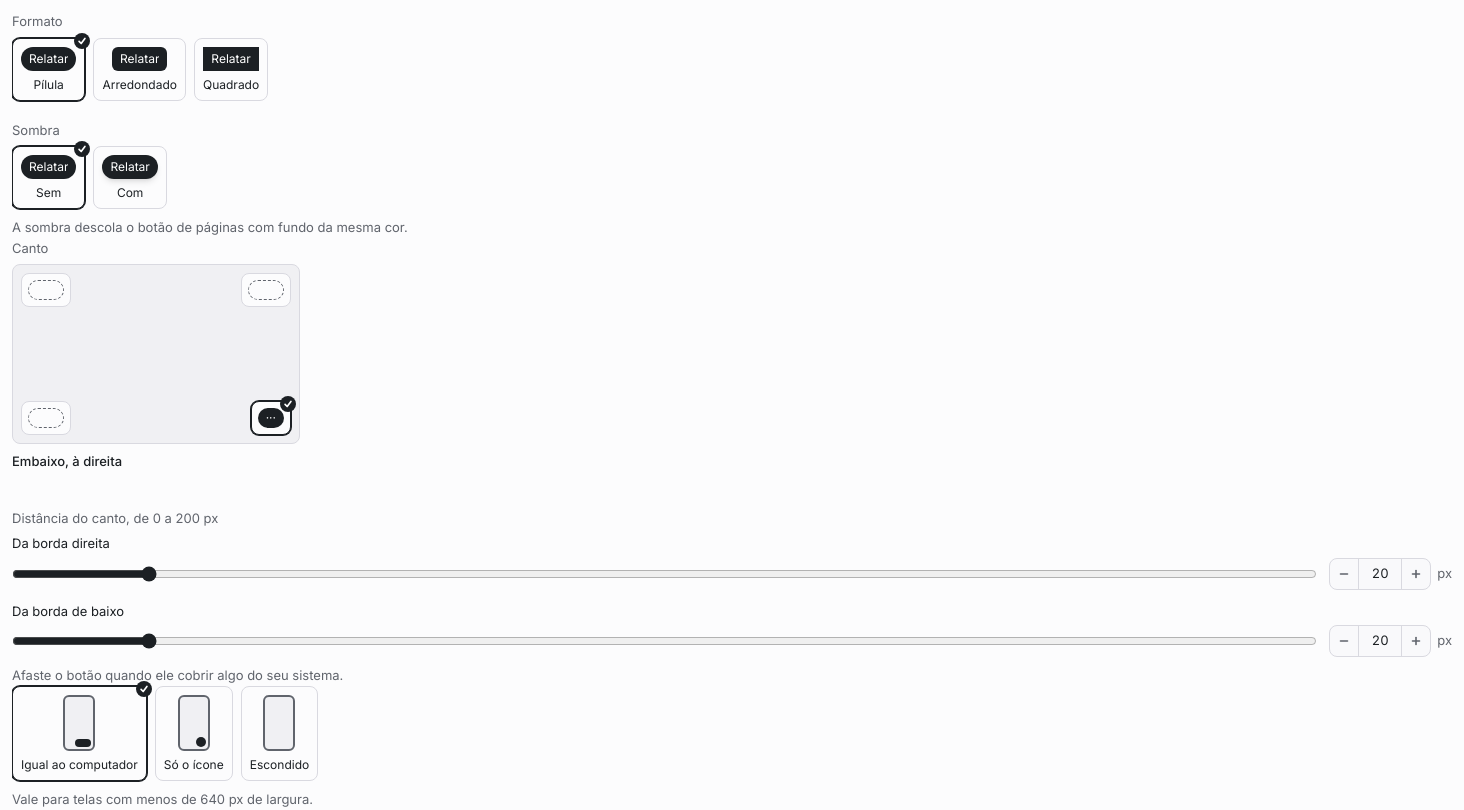
Scenario: AppearanceSection › no celular › "so o icone" no celular, sem icone, escolhe o balao e diz
(page scrolled)
Click the radio button labelled "Só o ícone" at [194, 734], box [156,687,232,780]
(page scrolled)
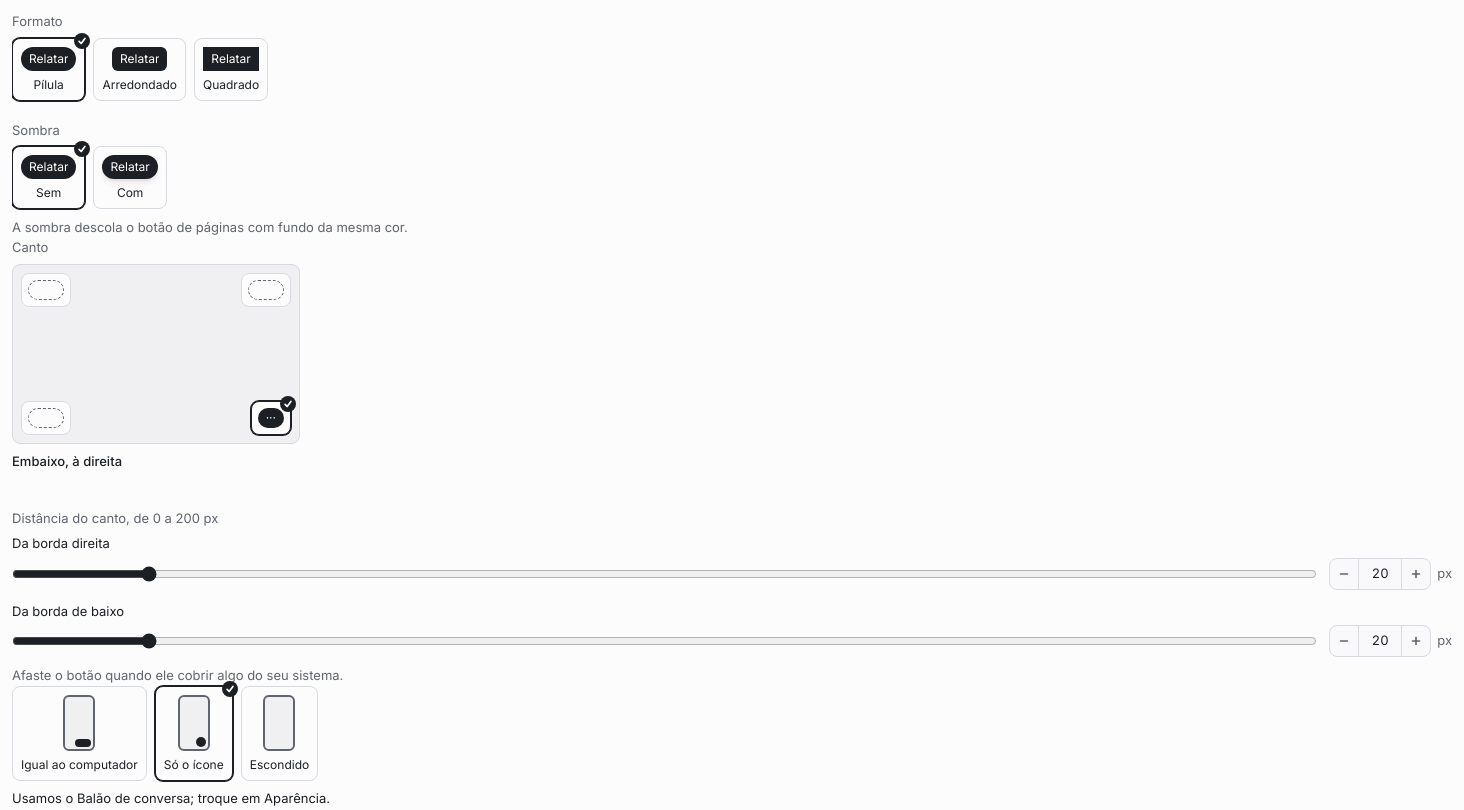
Now the radio button labelled "Só o ícone" is checked, box [156,687,232,780]
Now the text "Usamos o Balão de conversa; troque em Aparência." is shown, box [12,790,330,806]
